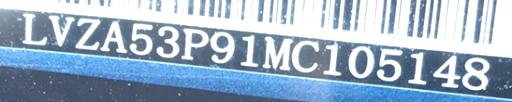letter: (16, 12, 48, 47), (72, 11, 100, 51), (262, 32, 290, 72), (376, 44, 404, 83), (462, 52, 490, 91), (434, 49, 460, 90), (182, 25, 208, 64), (292, 36, 320, 72), (346, 43, 374, 79), (46, 13, 74, 48), (101, 19, 125, 59), (208, 28, 234, 64), (126, 23, 150, 58), (154, 25, 178, 59), (324, 40, 344, 78), (408, 48, 428, 85), (240, 32, 258, 68)
